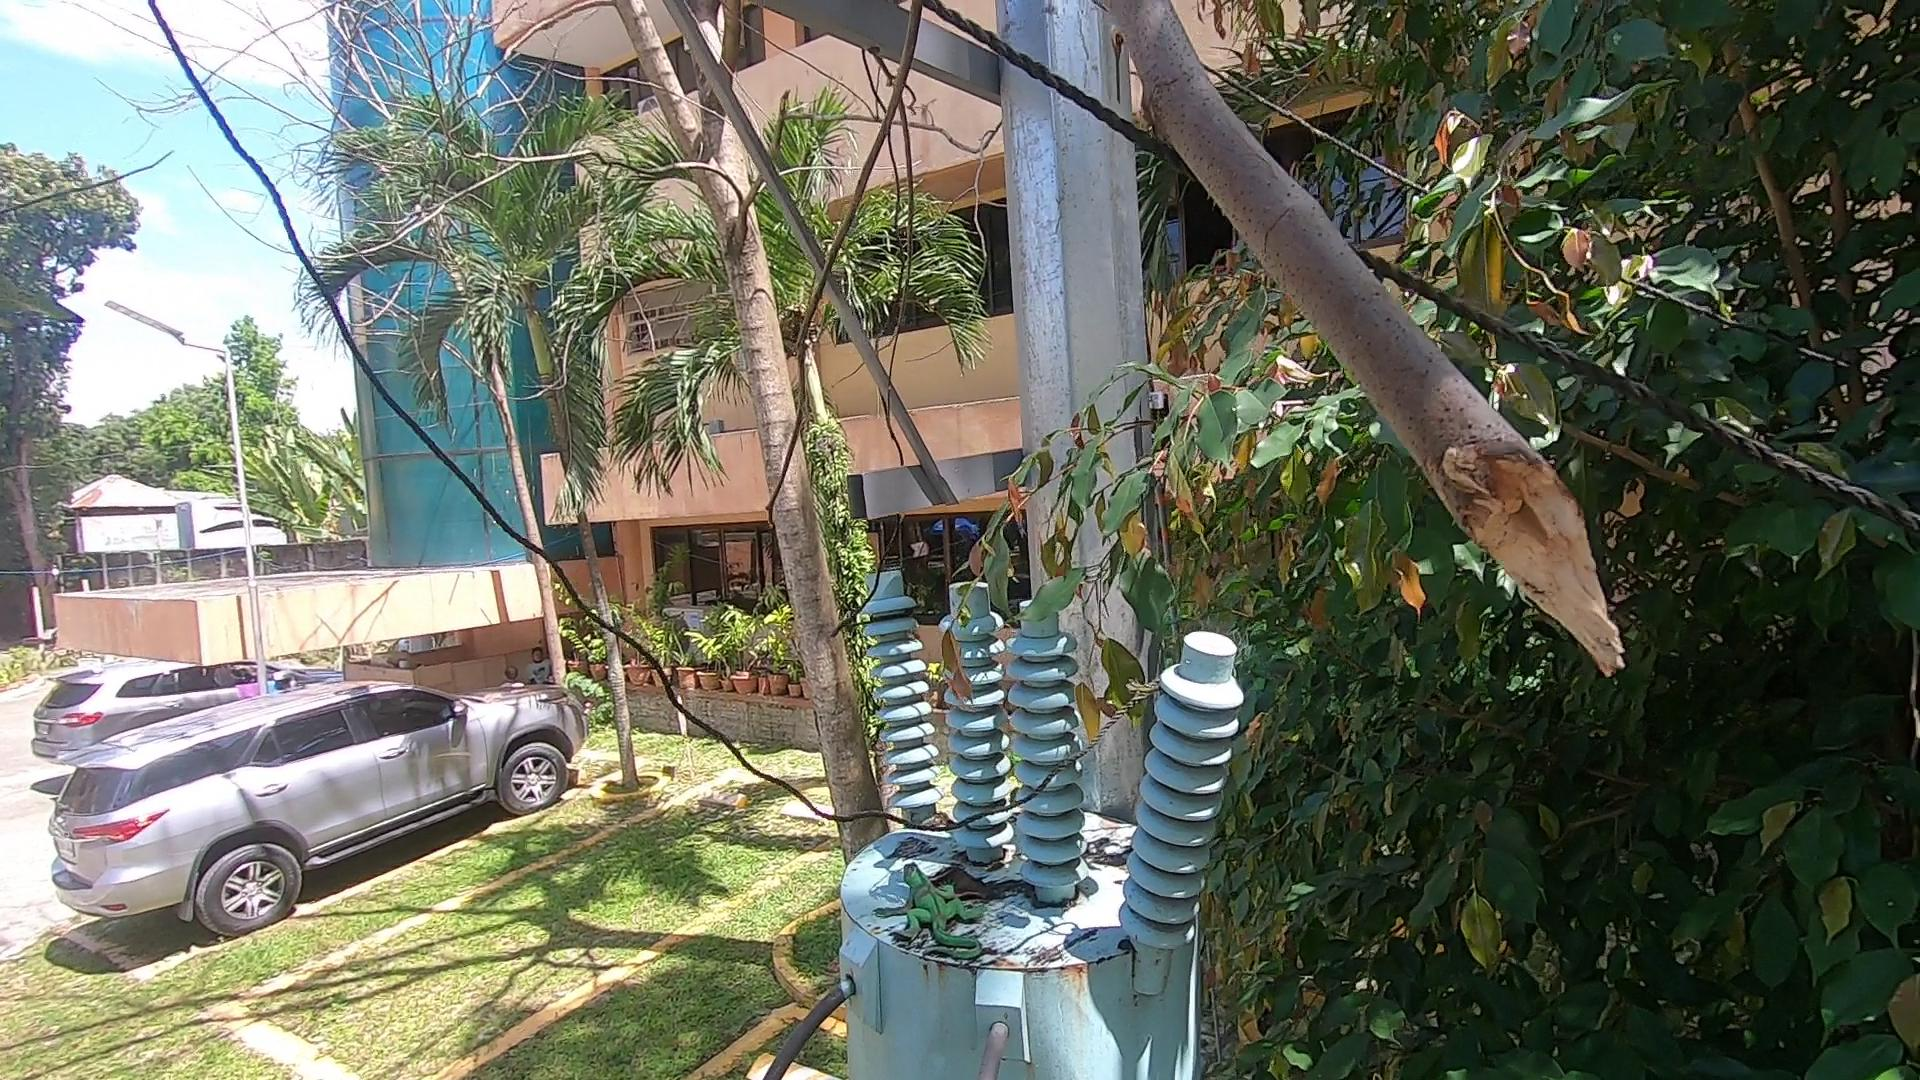branch with leaves: (856, 455, 1224, 746)
leaf: (938, 858, 1042, 914), (1088, 837, 1135, 880), (906, 803, 952, 832)
tree branch: (1097, 3, 1658, 688)
